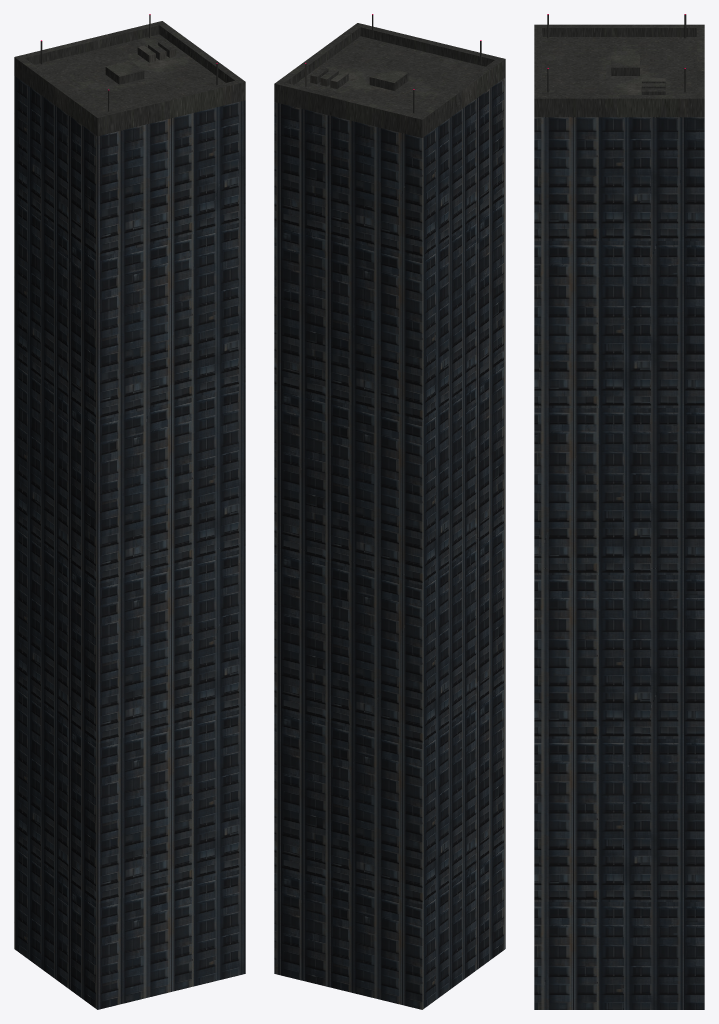
The model's file is dark-skyscraper2.glb.
The picture shows the model from 3 angles, left to right: view 1: azimuth 30°, elevation 25°; view 2: azimuth 150°, elevation 25°; view 3: azimuth 270°, elevation 25°; orthographic projection. The views are drawn at different scales.
Parts seen in each view (by area): view 1: dark-skyscraper.003; view 2: dark-skyscraper.003; view 3: dark-skyscraper.003.
Part boxes in pixels (<box>): dark-skyscraper.003: <box>14,14,245,1009</box>; dark-skyscraper.003: <box>274,14,505,1009</box>; dark-skyscraper.003: <box>534,14,704,1009</box>.
Bounding box in the file's own units: 76.03 × 446 × 74.04.
Materials: 3 (2 with a texture image).
